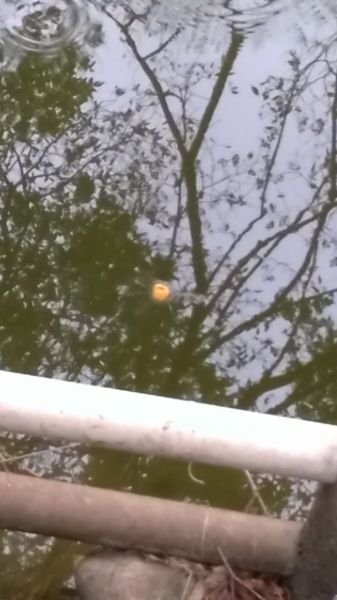eggs: (147, 279, 171, 301)
